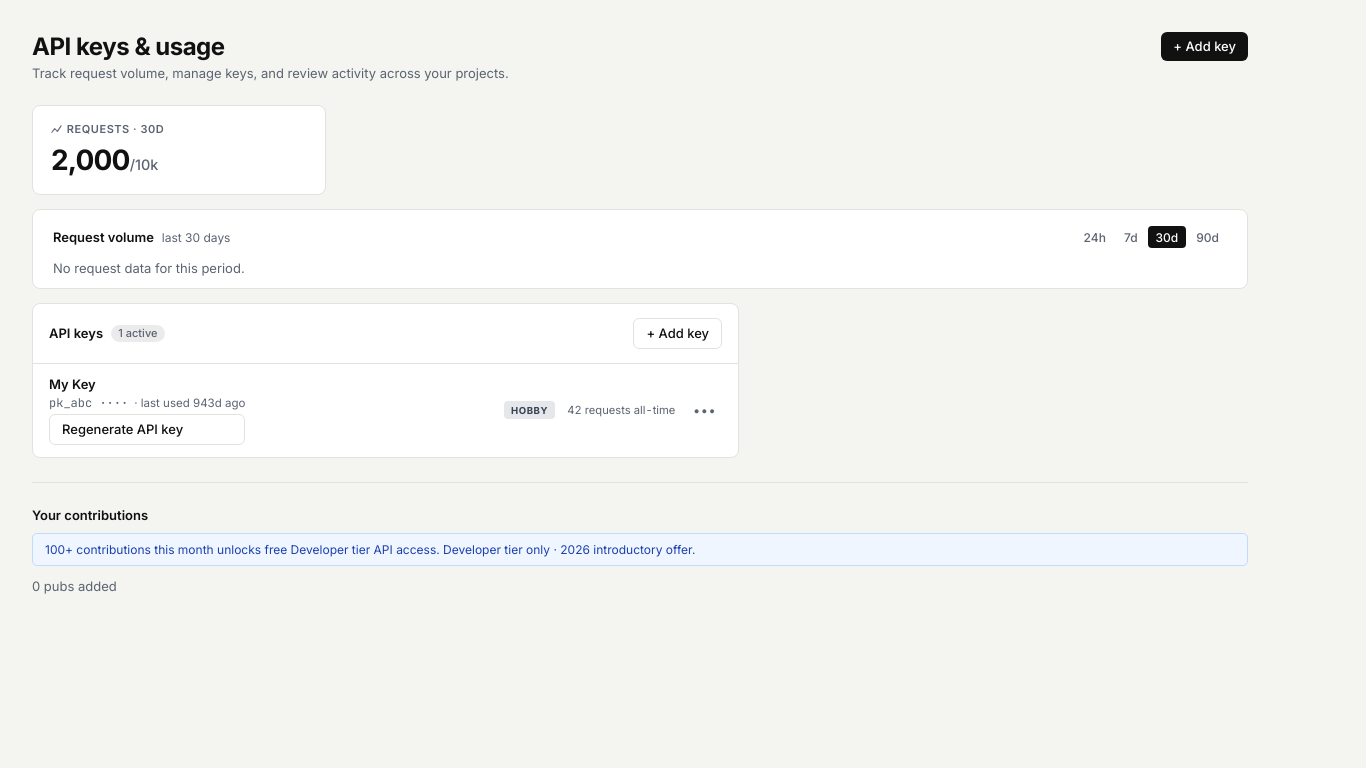
Dashboard › cancel subscription › does not show cancel subscription option for HOBBY tier
Check: the text "My Key" is shown, box [49,376,96,392]
Click the button named "More options for My Key" at {"x": 705, "y": 411}, box [687,401,722,422]
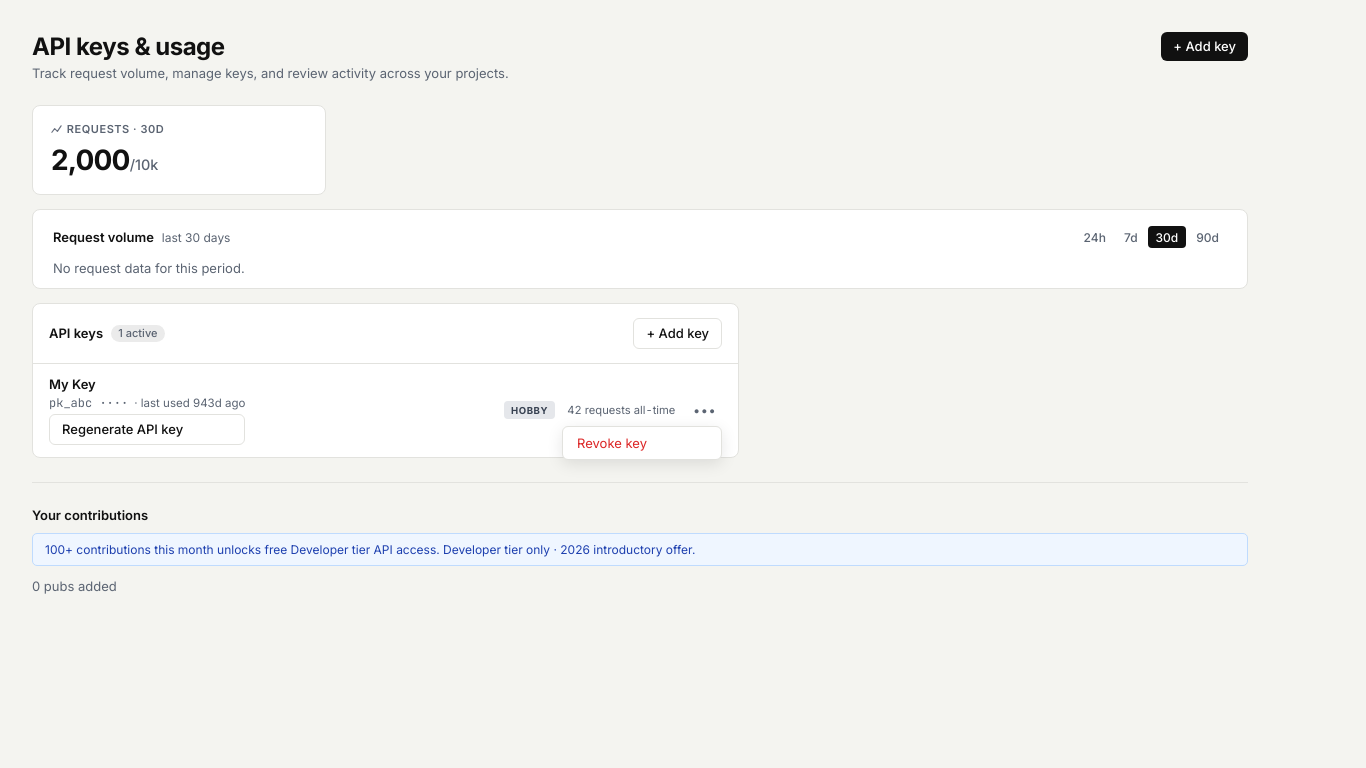
Check: the button "Revoke key" is shown, box [563,426,721,458]
